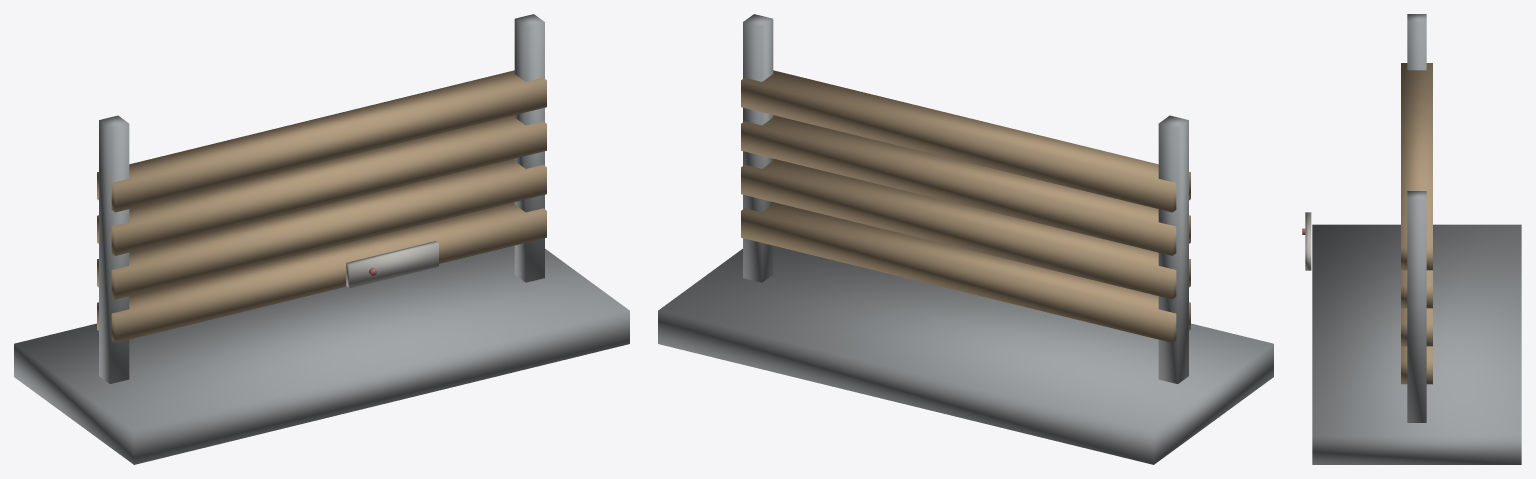
The model's file is lumber_cart.glb.
The picture shows the model from 3 angles, left to right: view 1: azimuth 30°, elevation 25°; view 2: azimuth 150°, elevation 25°; view 3: azimuth 270°, elevation 25°; orthographic projection. The views are drawn at different scales.
Visible parts, largest first — view 1: world; view 2: world; view 3: world.
Part boxes in pixels (left/top/right/bottom): world: left=14, top=14, right=629, bottom=464; world: left=658, top=14, right=1273, bottom=464; world: left=1302, top=14, right=1521, bottom=464.
Size of the model in its own units: 1.55 by 0.865 by 0.681.
